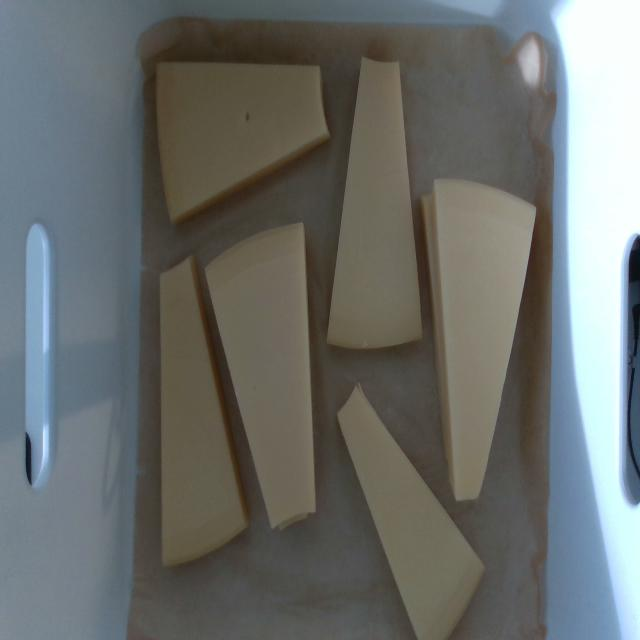cheese: (338, 384, 484, 639), (206, 224, 315, 527), (434, 180, 535, 500), (156, 63, 329, 220), (328, 59, 421, 348), (160, 256, 244, 568)
